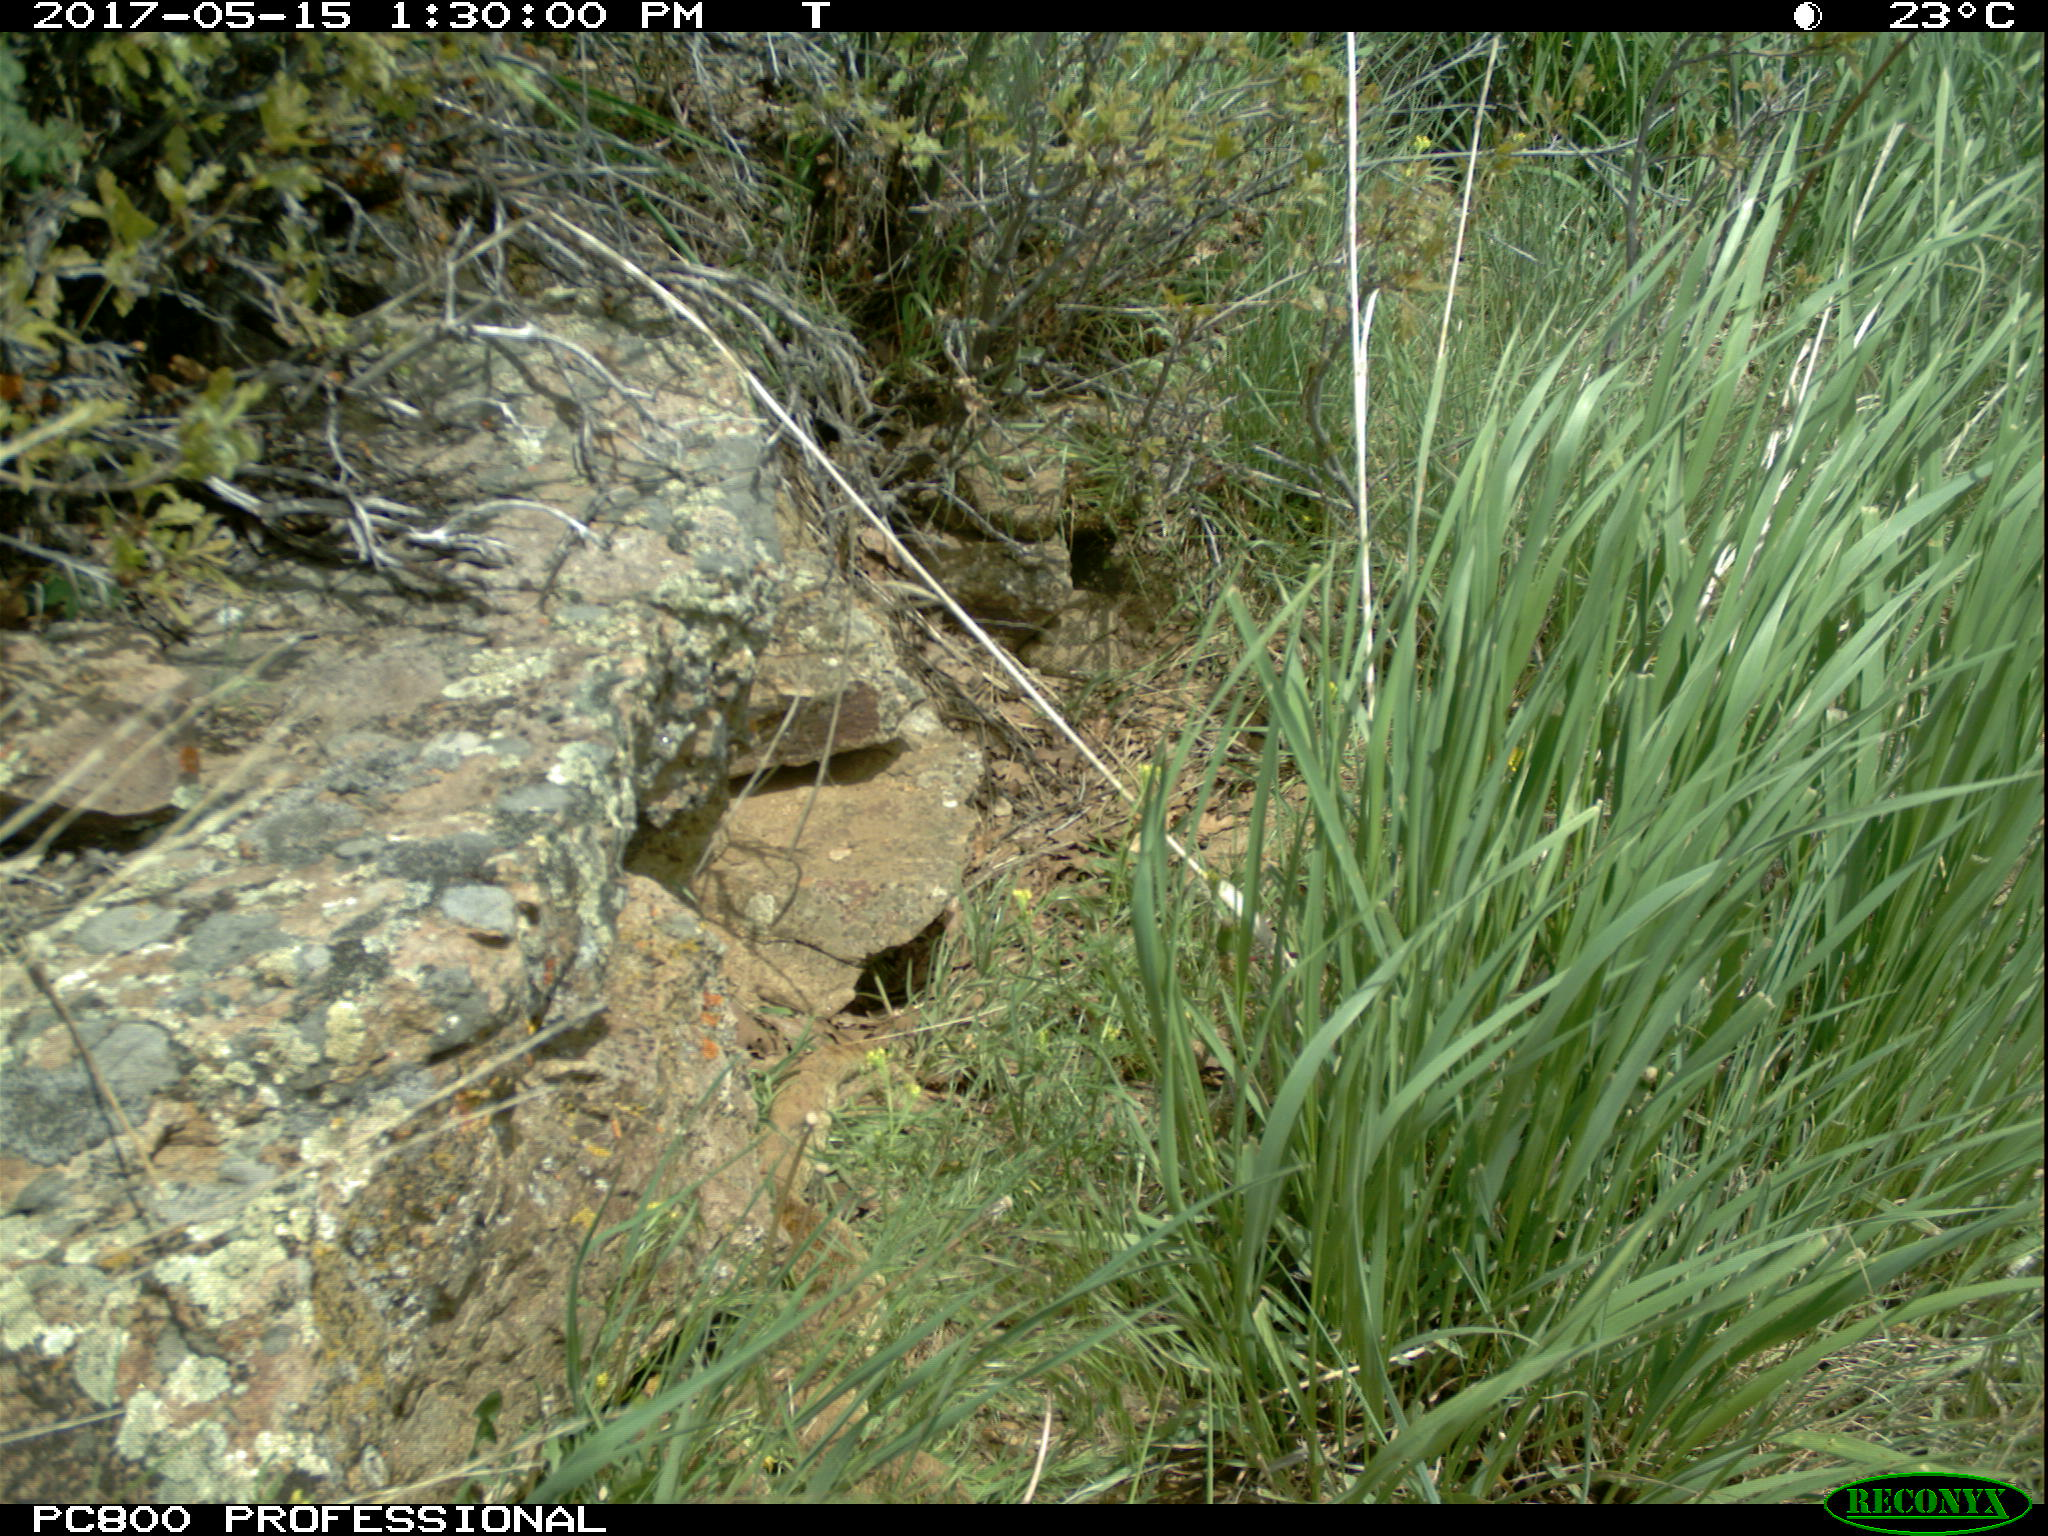snake: (760, 1034, 892, 1459)
